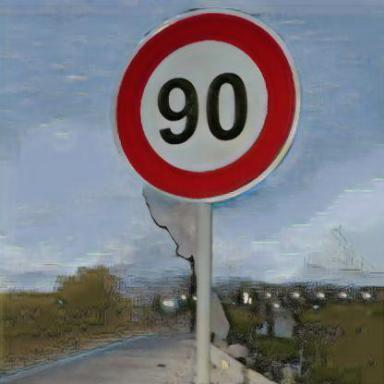Speed_limit_90: (117, 14, 298, 198)
